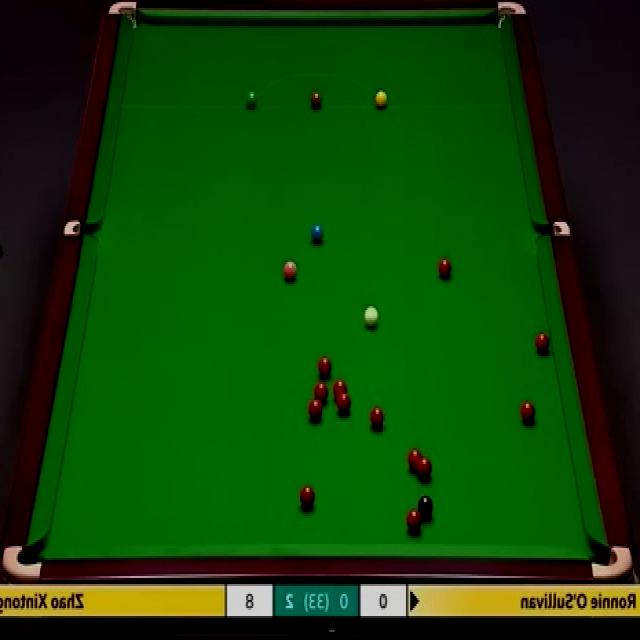pocket: (587, 546, 635, 583), (0, 542, 41, 580), (494, 0, 527, 32), (106, 2, 140, 30), (63, 218, 100, 237), (537, 218, 571, 238)
